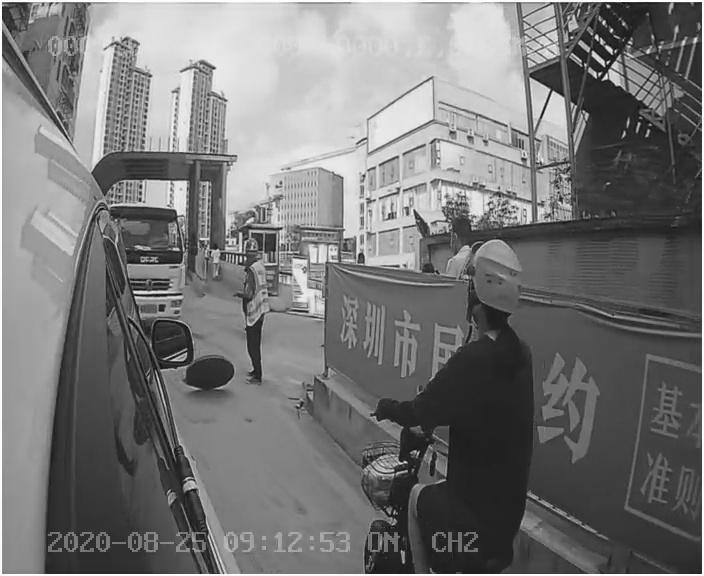person: (234, 239, 277, 391)
